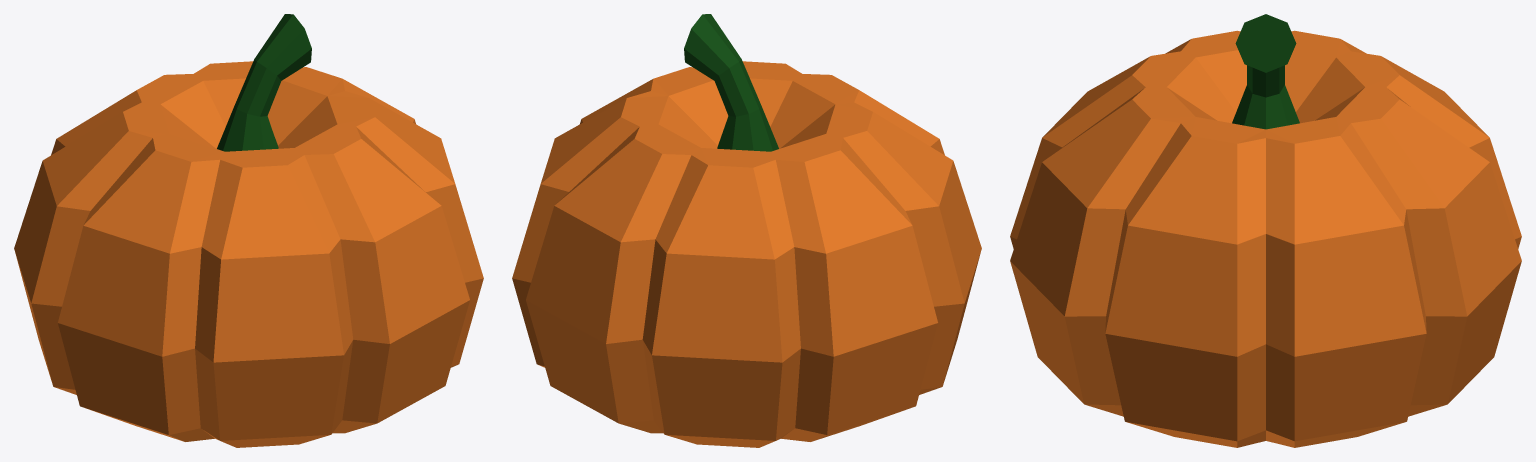
File: Pumpkin.fbx
3 views of the same model, side by side, from view 1: azimuth 30°, elevation 25°; view 2: azimuth 150°, elevation 25°; view 3: azimuth 270°, elevation 25° (orthographic). The views are drawn at different scales.
Visible parts, largest first — view 1: Pumpkin; view 2: Pumpkin; view 3: Pumpkin.
Part boxes in pixels (bbox=[...]): Pumpkin: bbox=[14, 14, 483, 447]; Pumpkin: bbox=[512, 14, 981, 447]; Pumpkin: bbox=[1010, 14, 1521, 447].
Bounding box in the file's own units: 96.93 × 87.09 × 96.93.
